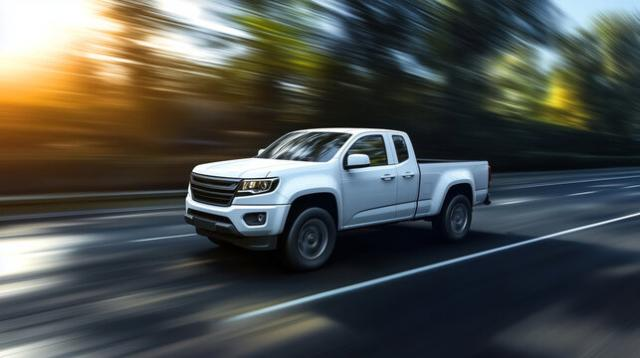pickup-truck: (181, 126, 490, 271)
